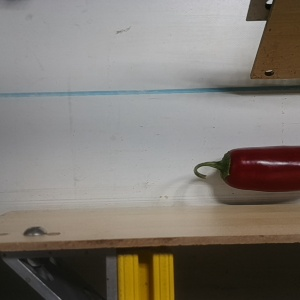Cut Point: (214, 147, 243, 189)
